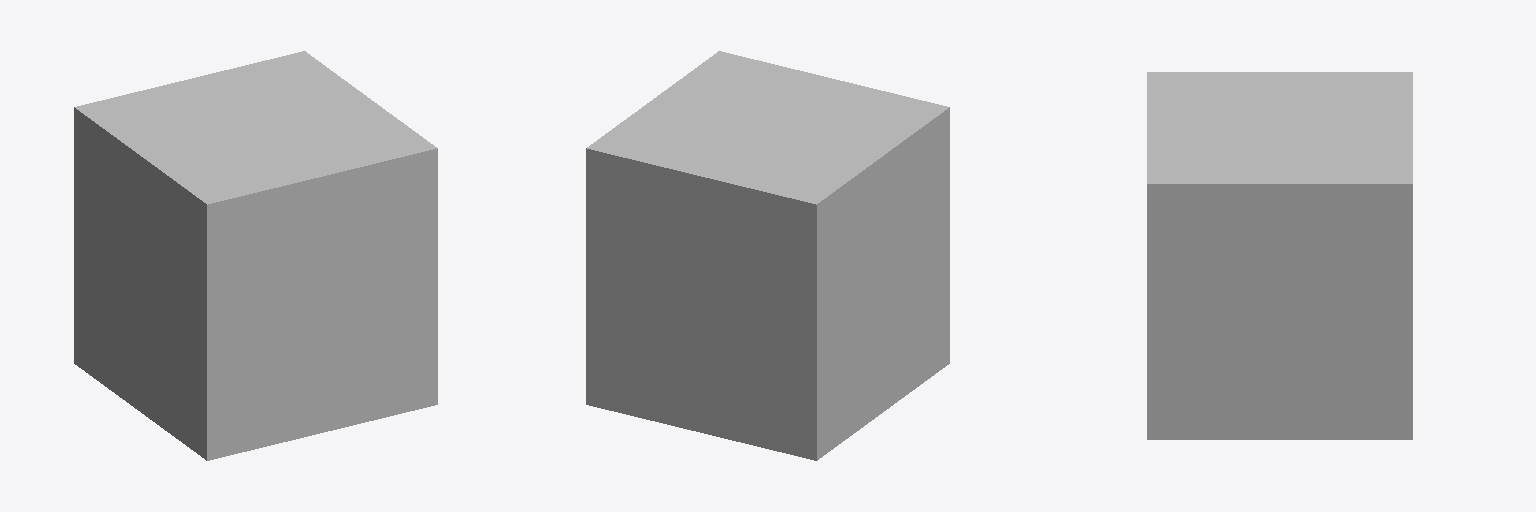
Rendered from room.obj.
3 views of the same model, side by side, from view 1: azimuth 30°, elevation 25°; view 2: azimuth 150°, elevation 25°; view 3: azimuth 270°, elevation 25° (orthographic).
Parts seen in each view (by area): view 1: slot15, slot6; view 2: slot15, slot6; view 3: slot15, slot6.
Part boxes in pixels (x1,y1,x2,y2): slot15: (74, 51, 437, 460); slot6: (124, 215, 350, 332); slot15: (586, 51, 949, 460); slot6: (673, 250, 899, 409); slot15: (1147, 72, 1412, 439); slot6: (1247, 290, 1312, 349).
Size of the model in its own units: 128 by 136 by 128.